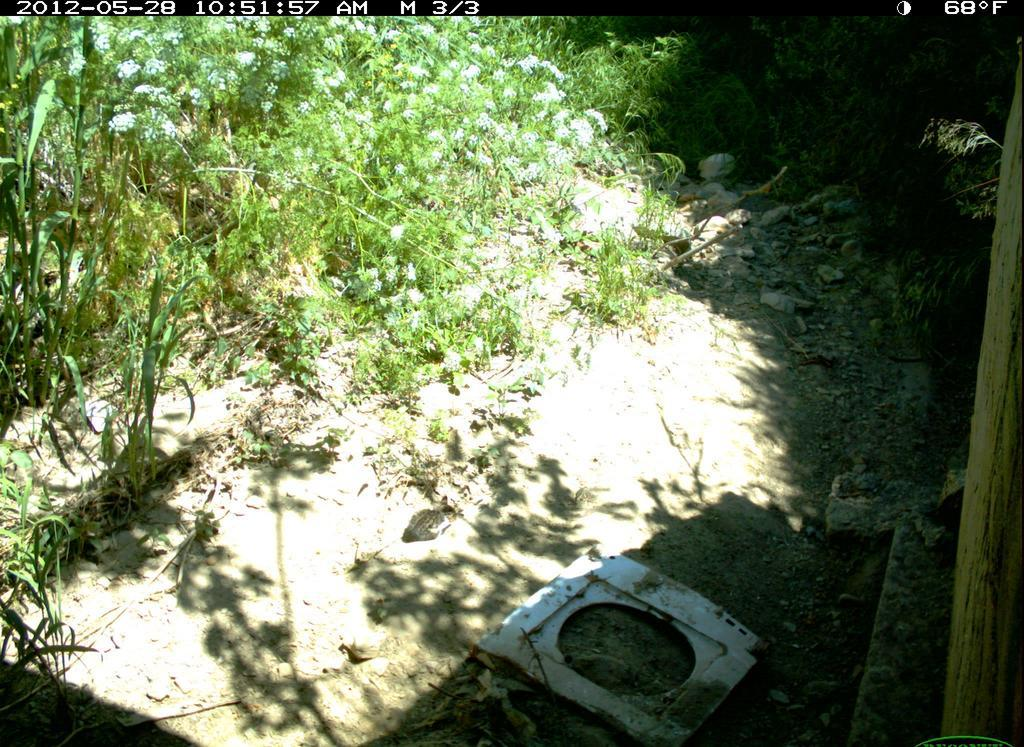cat: (402, 493, 466, 548)
